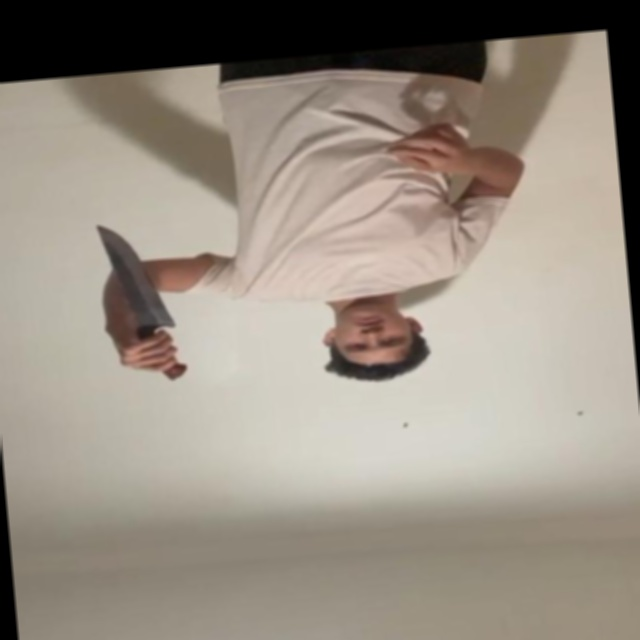Sharp-Object: (92, 219, 181, 334)
